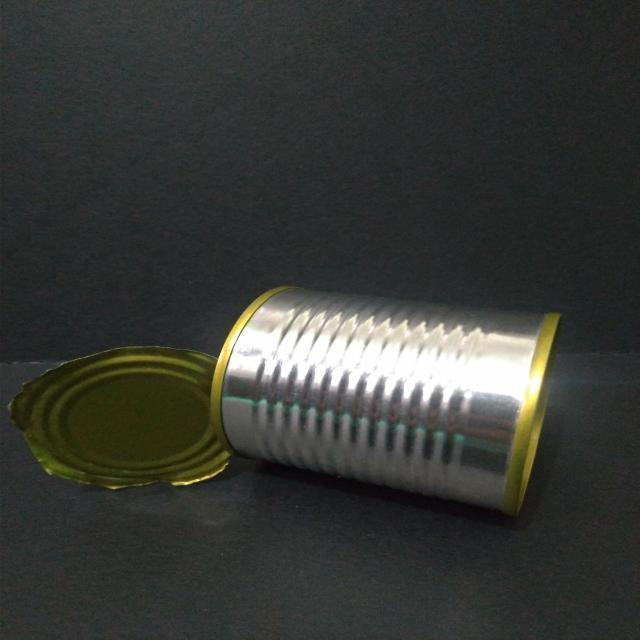metal-can: (8, 282, 572, 526)
